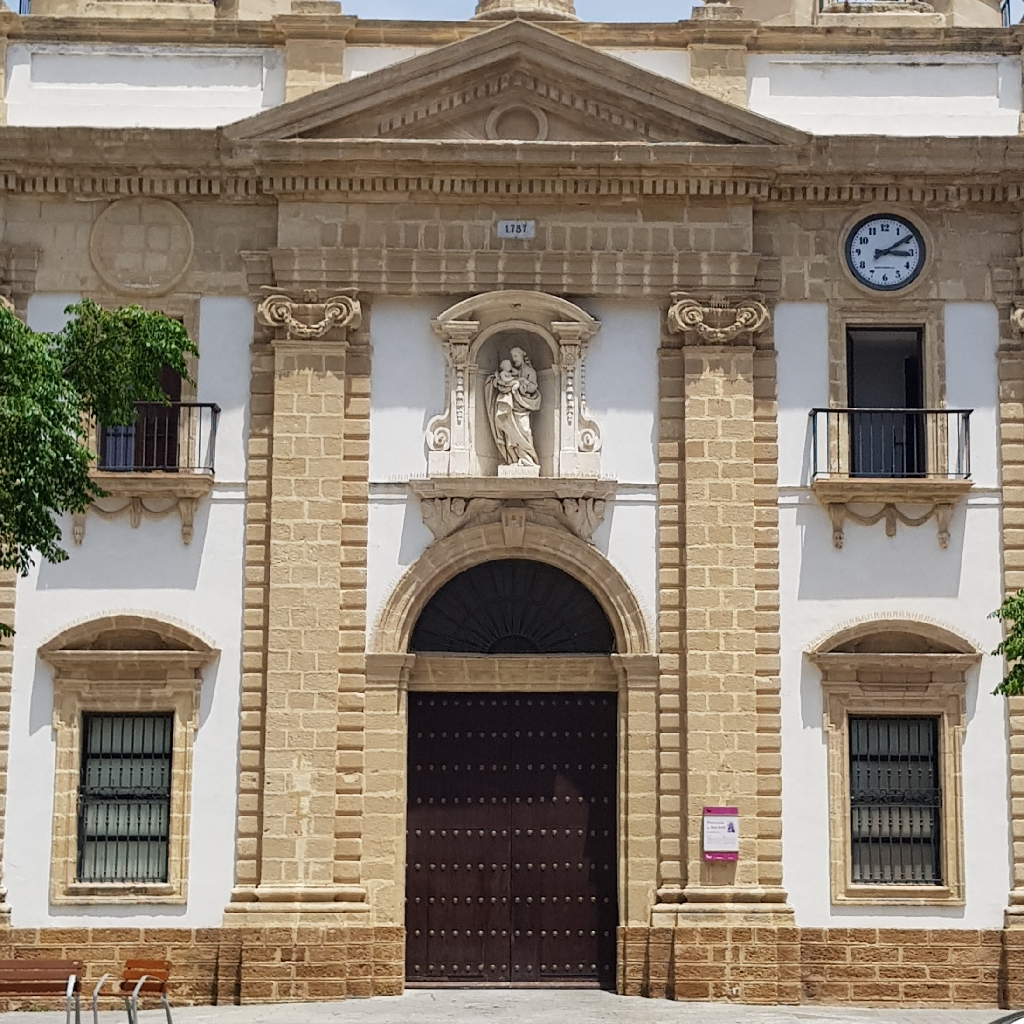arco-medio-punto: (380, 537, 649, 694)
fronton: (230, 14, 818, 174)
fronton-curvo: (37, 611, 222, 675), (805, 617, 989, 677)
fronton-partido: (447, 285, 593, 338)
vano-adintelado: (387, 672, 635, 996), (42, 683, 197, 898), (825, 681, 964, 896), (830, 303, 942, 474)
